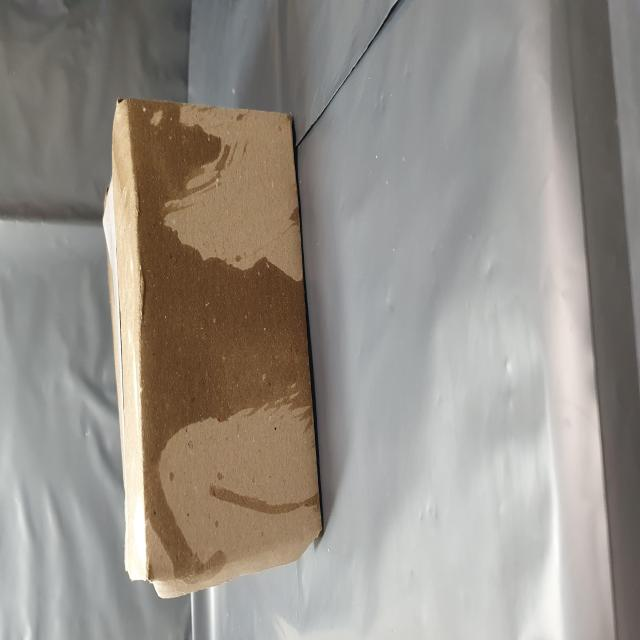wet: (31, 232, 298, 556)
